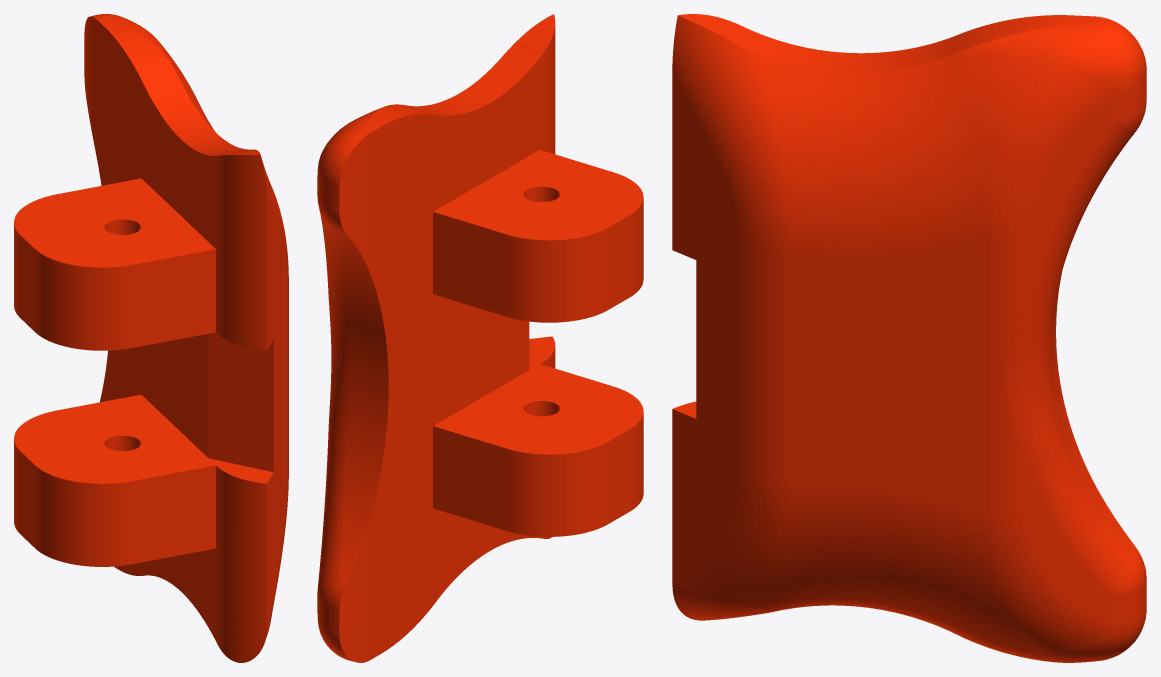
Rendered from L_Hand_Ring_Middle_visuals_ALLEX_Hand_Middle_Pad.obj.
3 views of the same model, side by side, from view 1: azimuth 30°, elevation 25°; view 2: azimuth 150°, elevation 25°; view 3: azimuth 270°, elevation 25° (orthographic). The views are drawn at different scales.
Bounding box in the file's own units: 0.00742 × 0.016 × 0.0108.
